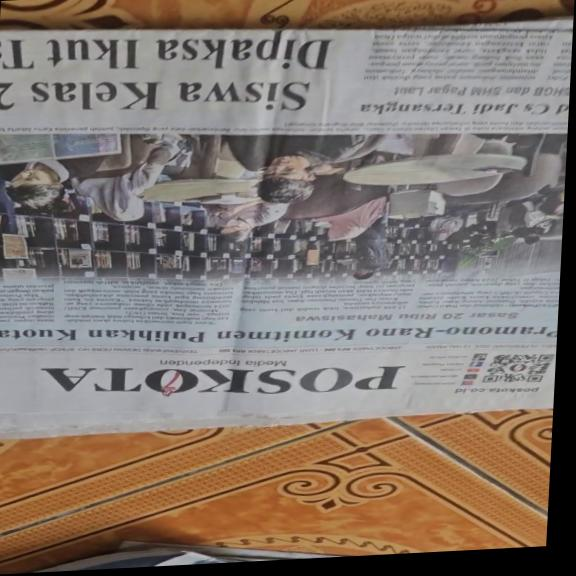Kertas: (0, 6, 569, 436)
